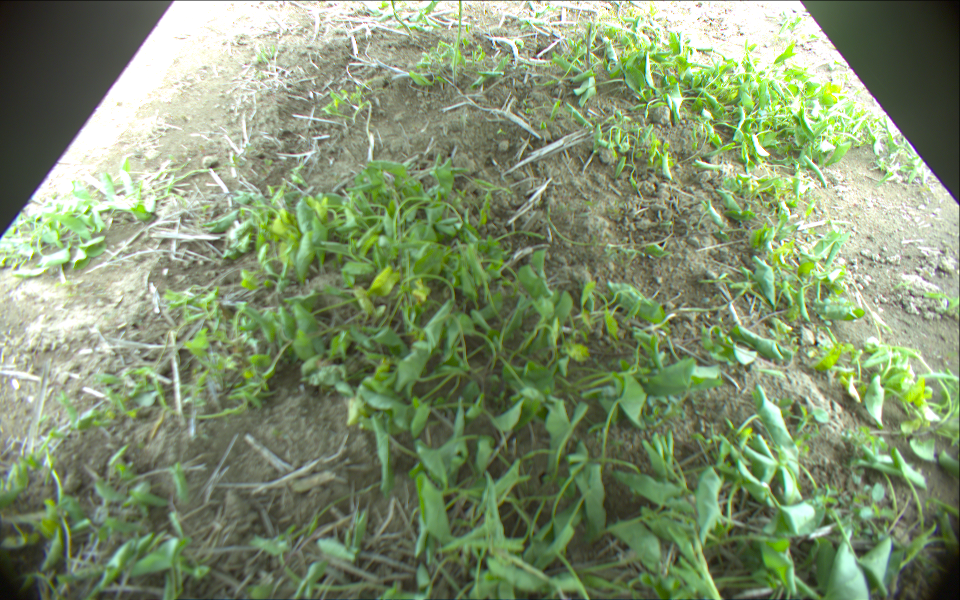aspa: (391, 1, 413, 40), (453, 1, 463, 82), (584, 23, 594, 71)
